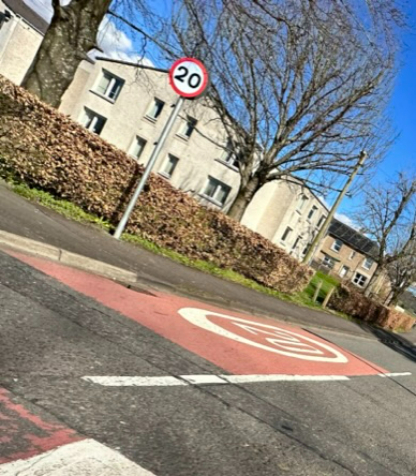tree: (178, 0, 397, 213), (17, 0, 120, 100), (367, 175, 416, 293)
